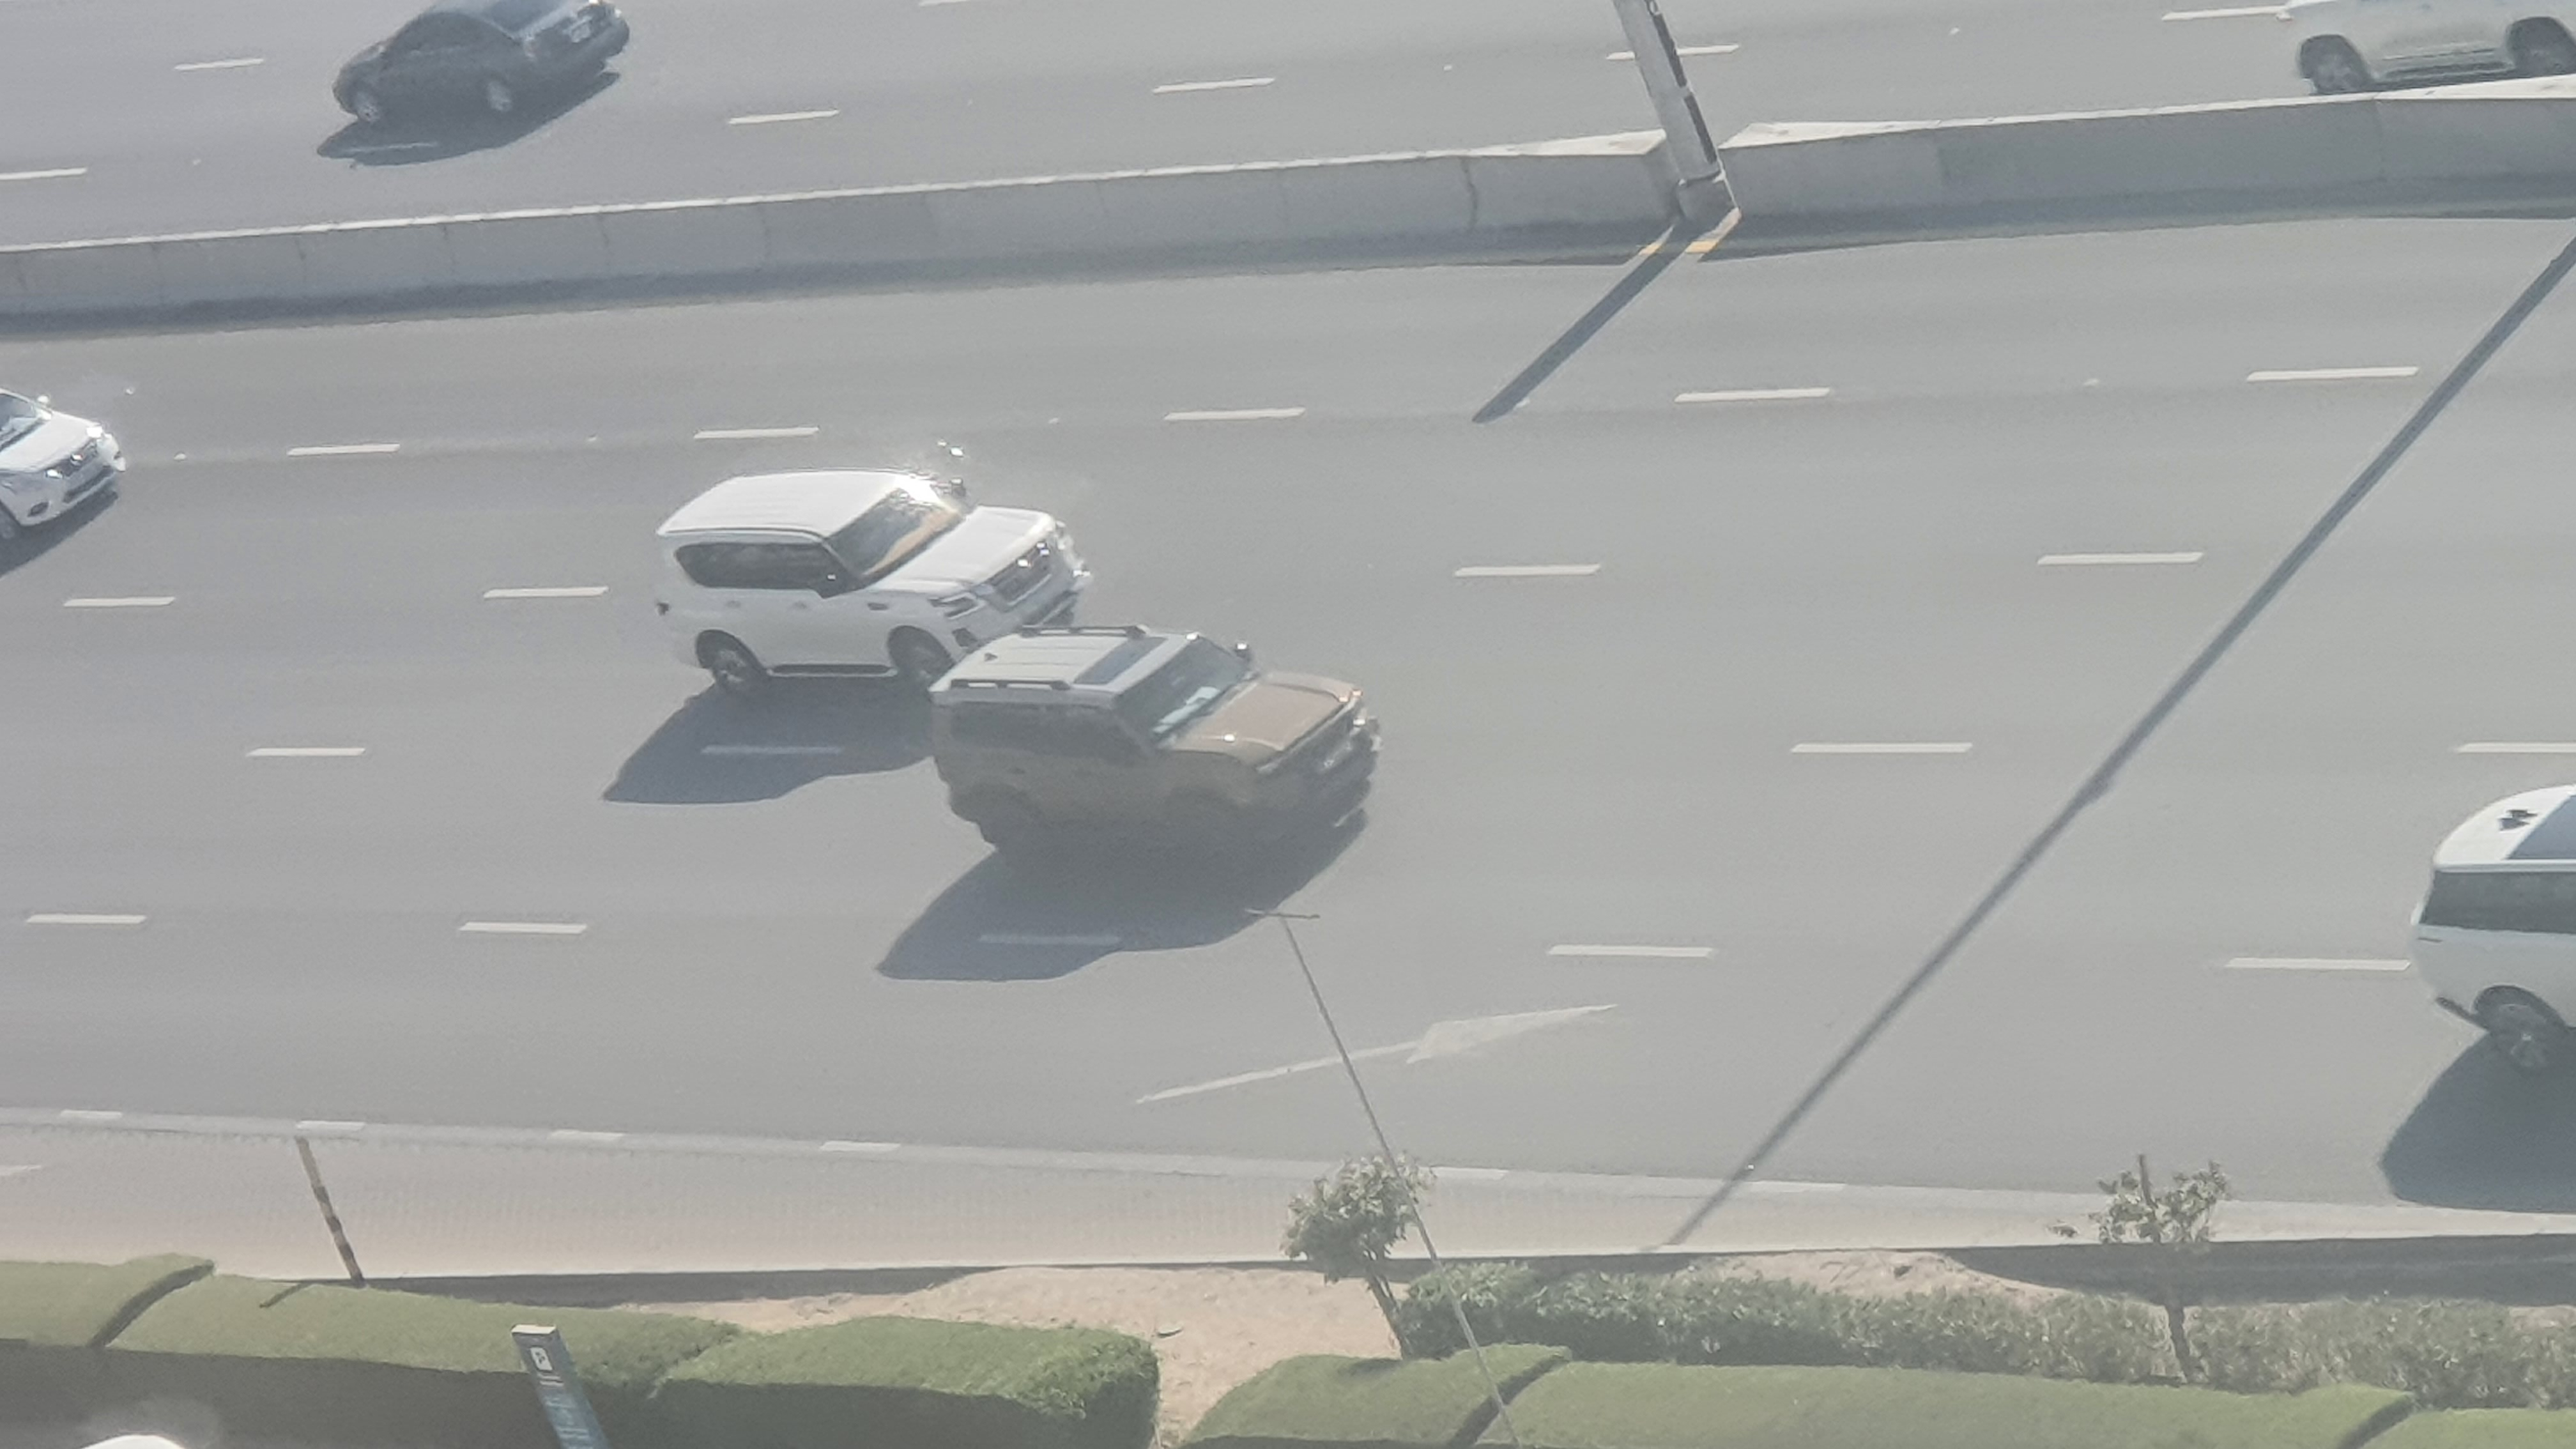NotSunroof: (646, 474, 1085, 697)
Sunroof: (931, 621, 1376, 886), (2404, 789, 2576, 1081)
